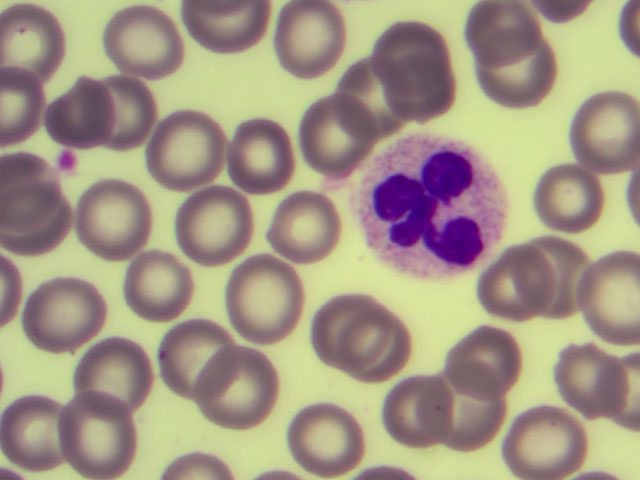Platelets: (58, 148, 81, 172)
RBC: (316, 297, 411, 381), (55, 396, 140, 480), (200, 346, 280, 428), (227, 258, 302, 340), (476, 34, 559, 107), (530, 233, 595, 325), (147, 111, 222, 190), (159, 323, 238, 397), (341, 55, 406, 141), (573, 91, 640, 174), (178, 190, 254, 263), (297, 98, 372, 170), (81, 337, 152, 413), (511, 409, 587, 480), (27, 275, 100, 348), (105, 11, 185, 77), (81, 184, 152, 258), (378, 21, 449, 95), (185, 1, 272, 59), (279, 1, 348, 74), (3, 394, 69, 470), (276, 187, 339, 266), (586, 253, 640, 345), (229, 120, 295, 195), (1, 4, 66, 80), (436, 376, 505, 447), (382, 378, 454, 446), (385, 67, 465, 127), (466, 1, 546, 61), (538, 158, 605, 229), (291, 404, 363, 470), (449, 332, 520, 398), (1, 191, 68, 257), (128, 253, 194, 319), (562, 350, 623, 420), (494, 254, 557, 319), (49, 83, 113, 146), (1, 155, 57, 224), (104, 73, 154, 149), (1, 70, 44, 141), (161, 442, 236, 480), (613, 347, 640, 431), (1, 254, 23, 332), (351, 459, 421, 480), (539, 1, 593, 27), (619, 2, 640, 56), (254, 468, 307, 480), (629, 175, 640, 224), (579, 472, 625, 480)
WBC: (363, 146, 503, 283)
